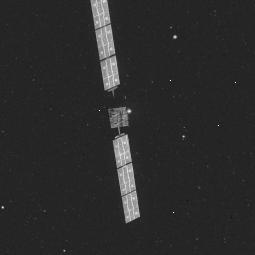smart_1: (88, 0, 151, 225)
